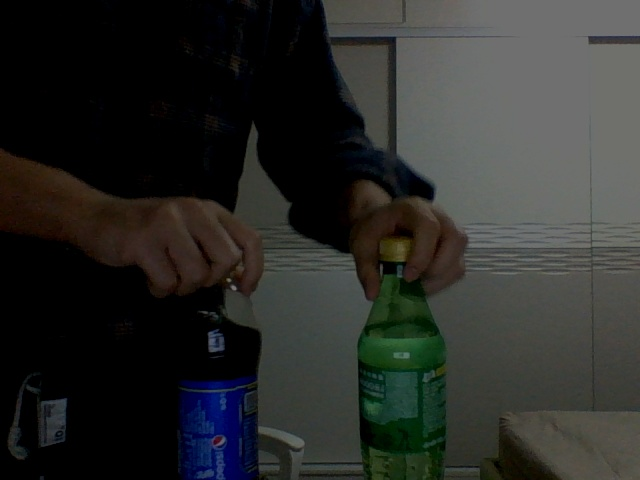Cola: (178, 262, 261, 479)
Sprite: (357, 233, 449, 479)
